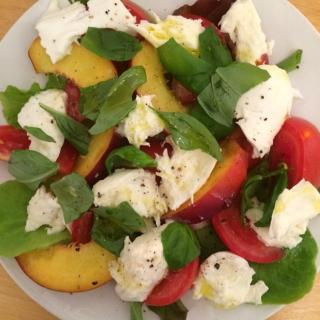tomato: (209, 204, 288, 267), (264, 114, 319, 191), (144, 258, 203, 306), (182, 14, 226, 43), (120, 0, 150, 41), (138, 137, 170, 175), (0, 124, 31, 162), (58, 140, 82, 177), (64, 78, 85, 120), (68, 212, 90, 244)
